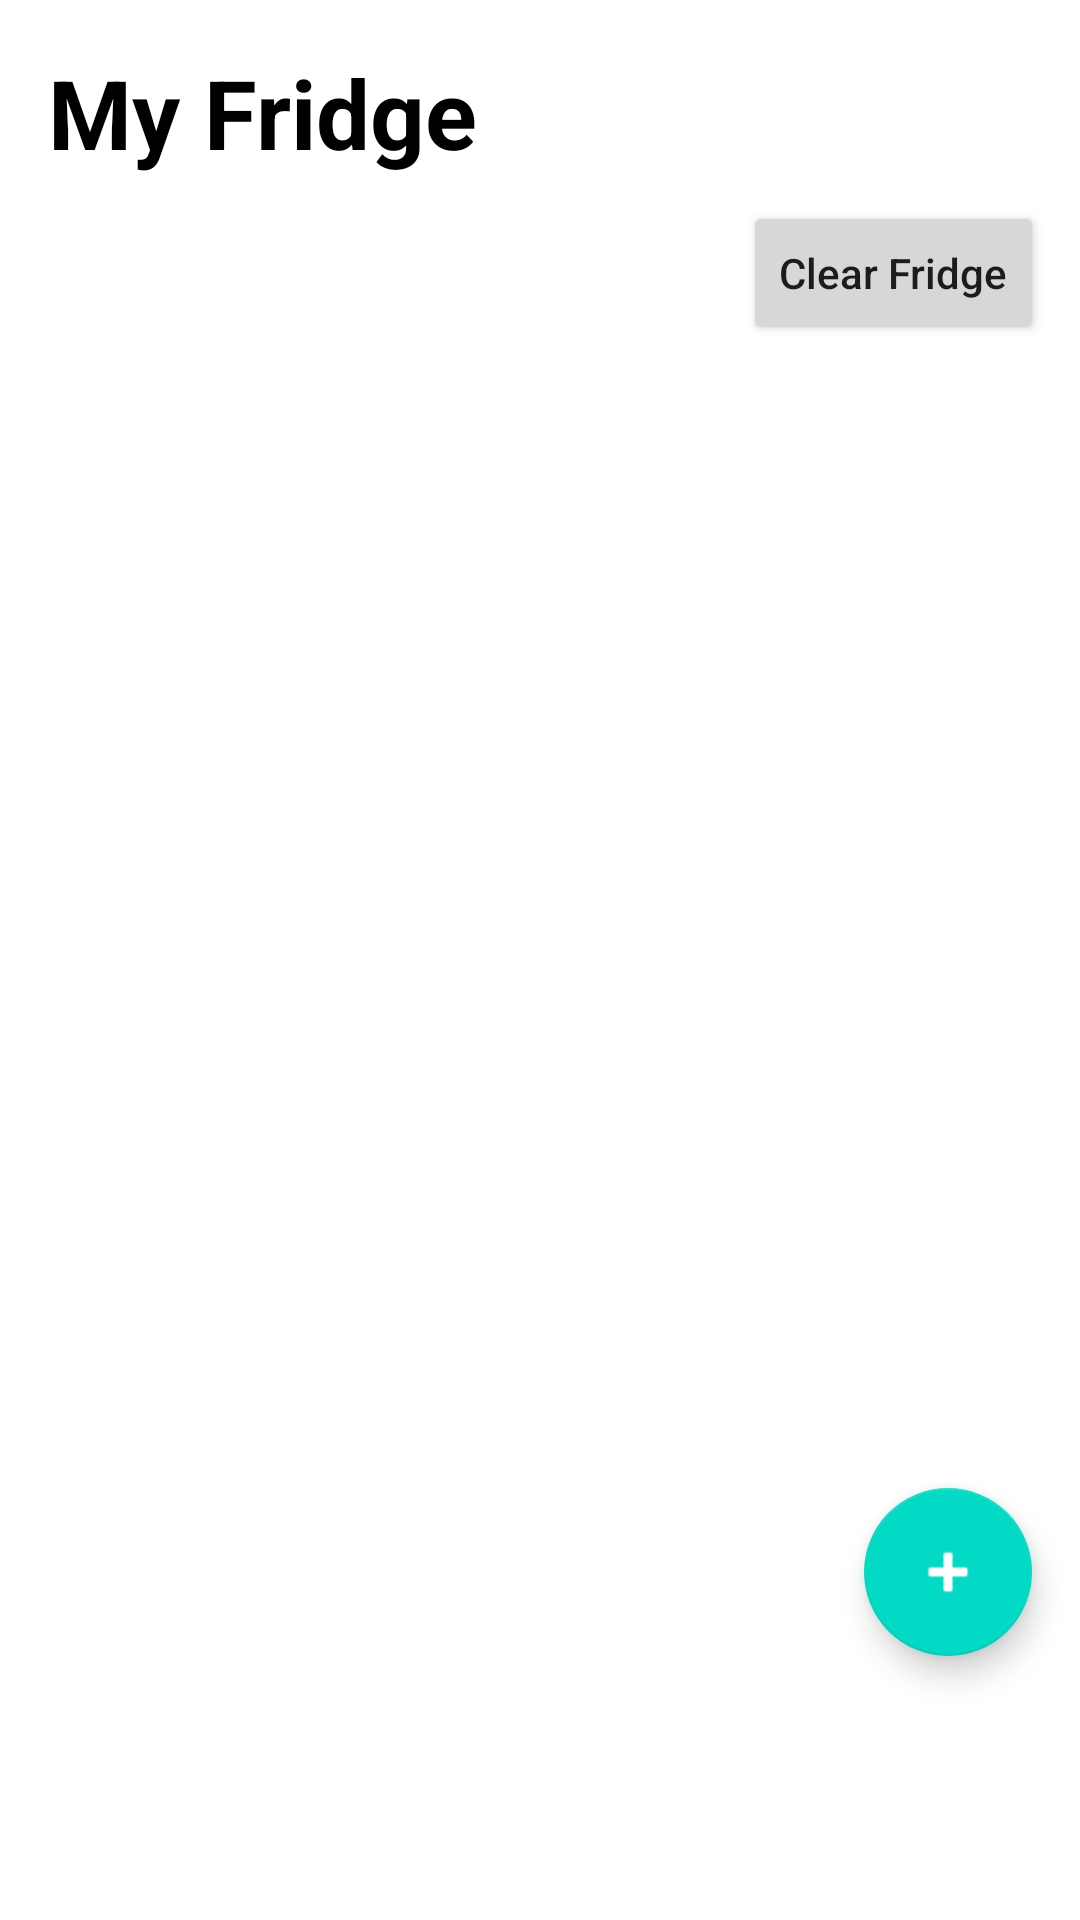

Screen size 1080×1920. Icon name, then its box in pixels as (x1, y1, x2, y2):
Add Ingredient: (864, 1488, 1032, 1656)
